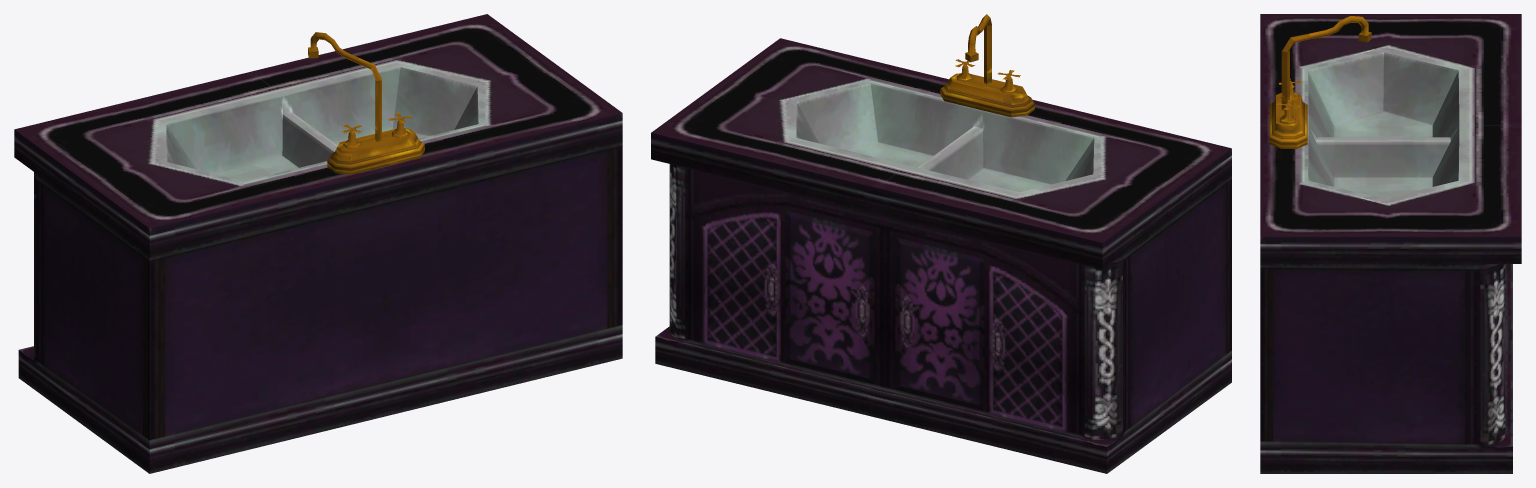
File: furni_0201225_02.FBX
The picture shows the model from 3 angles, left to right: view 1: azimuth 30°, elevation 25°; view 2: azimuth 150°, elevation 25°; view 3: azimuth 270°, elevation 25°; orthographic projection. The views are drawn at different scales.
Visible parts, largest first — view 1: furni_0201225_02; view 2: furni_0201225_02; view 3: furni_0201225_02.
Part boxes in pixels (box(x1,y1,x2,y2)): furni_0201225_02: box(14, 14, 622, 473); furni_0201225_02: box(651, 14, 1231, 473); furni_0201225_02: box(1260, 14, 1521, 473).
Bounding box in the file's own units: 161 × 115 × 80.
